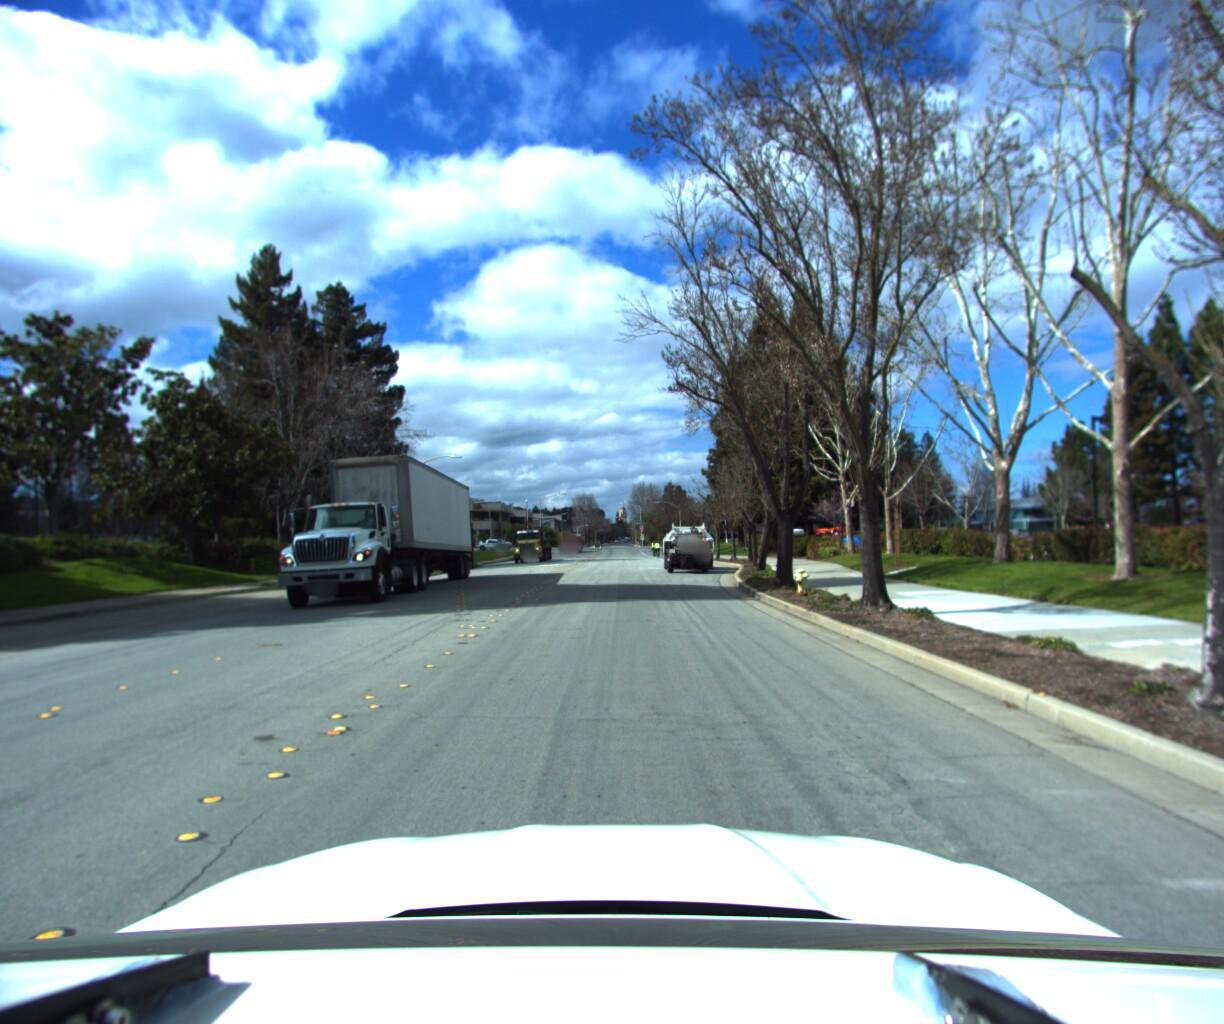bicycle: (652, 539, 661, 557)
truck: (244, 434, 486, 616), (656, 521, 722, 580), (505, 523, 554, 568)
